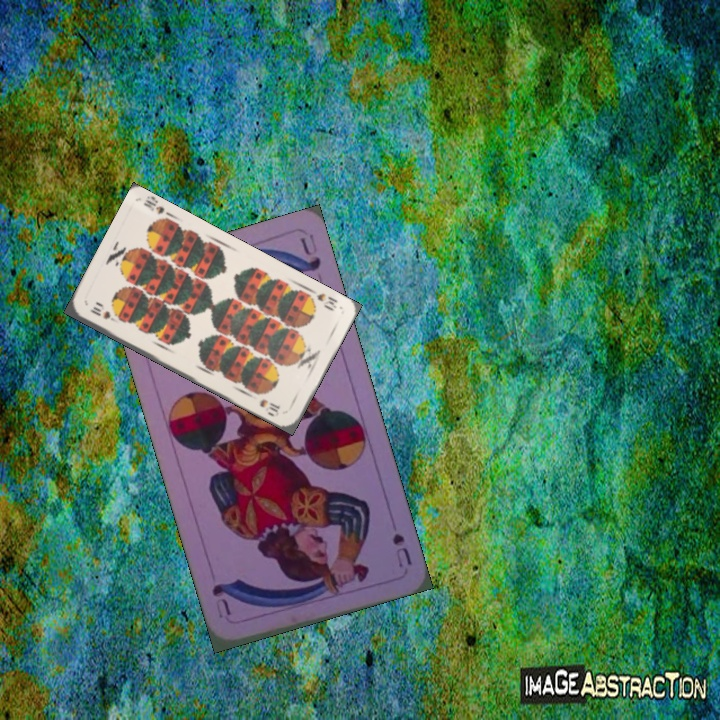S10: (306, 285, 340, 314), (86, 302, 122, 326)
SU: (388, 529, 415, 570)
